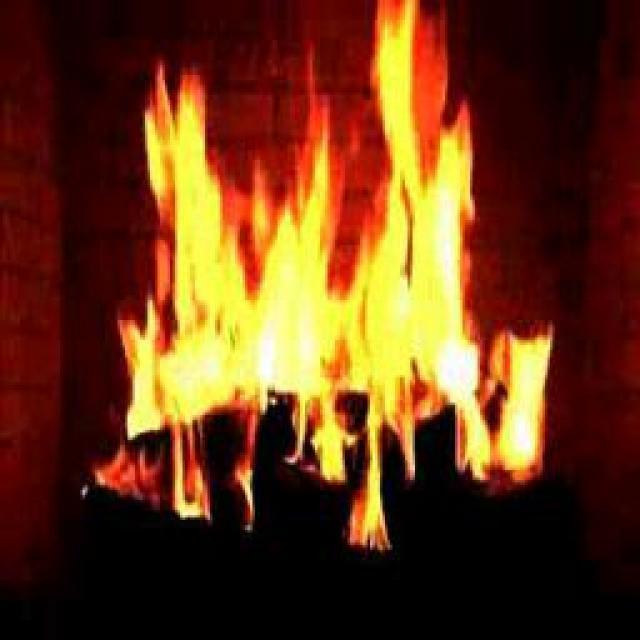Fire: (128, 35, 502, 451)
